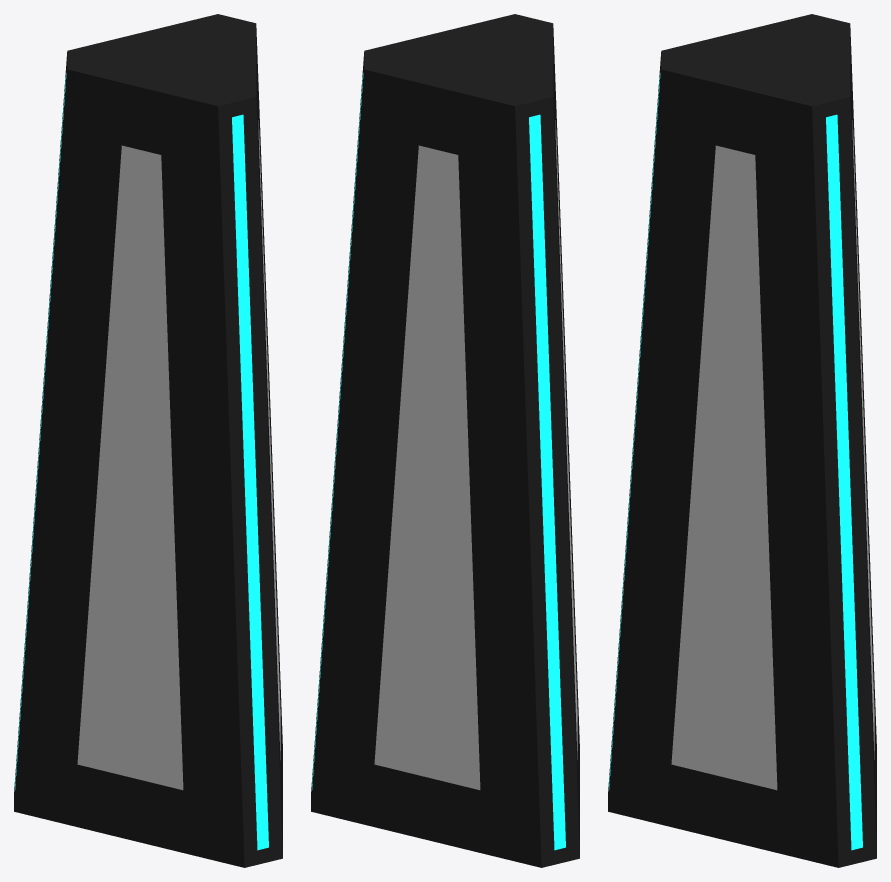
The model's file is Palazzo_nonQuadrato_02.fbx.
3 renders of one model, left to right at view 1: azimuth 30°, elevation 25°; view 2: azimuth 150°, elevation 25°; view 3: azimuth 270°, elevation 25°, orthographic.
Visible parts, largest first — view 1: 07_Ed; view 2: 07_Ed; view 3: 07_Ed.
Part boxes in pixels (x1,y1,x2,y2): 07_Ed: [14, 14, 282, 867]; 07_Ed: [311, 14, 579, 867]; 07_Ed: [608, 14, 876, 867].
Bounding box in the file's own units: 1.52 × 1.31 × 4.
